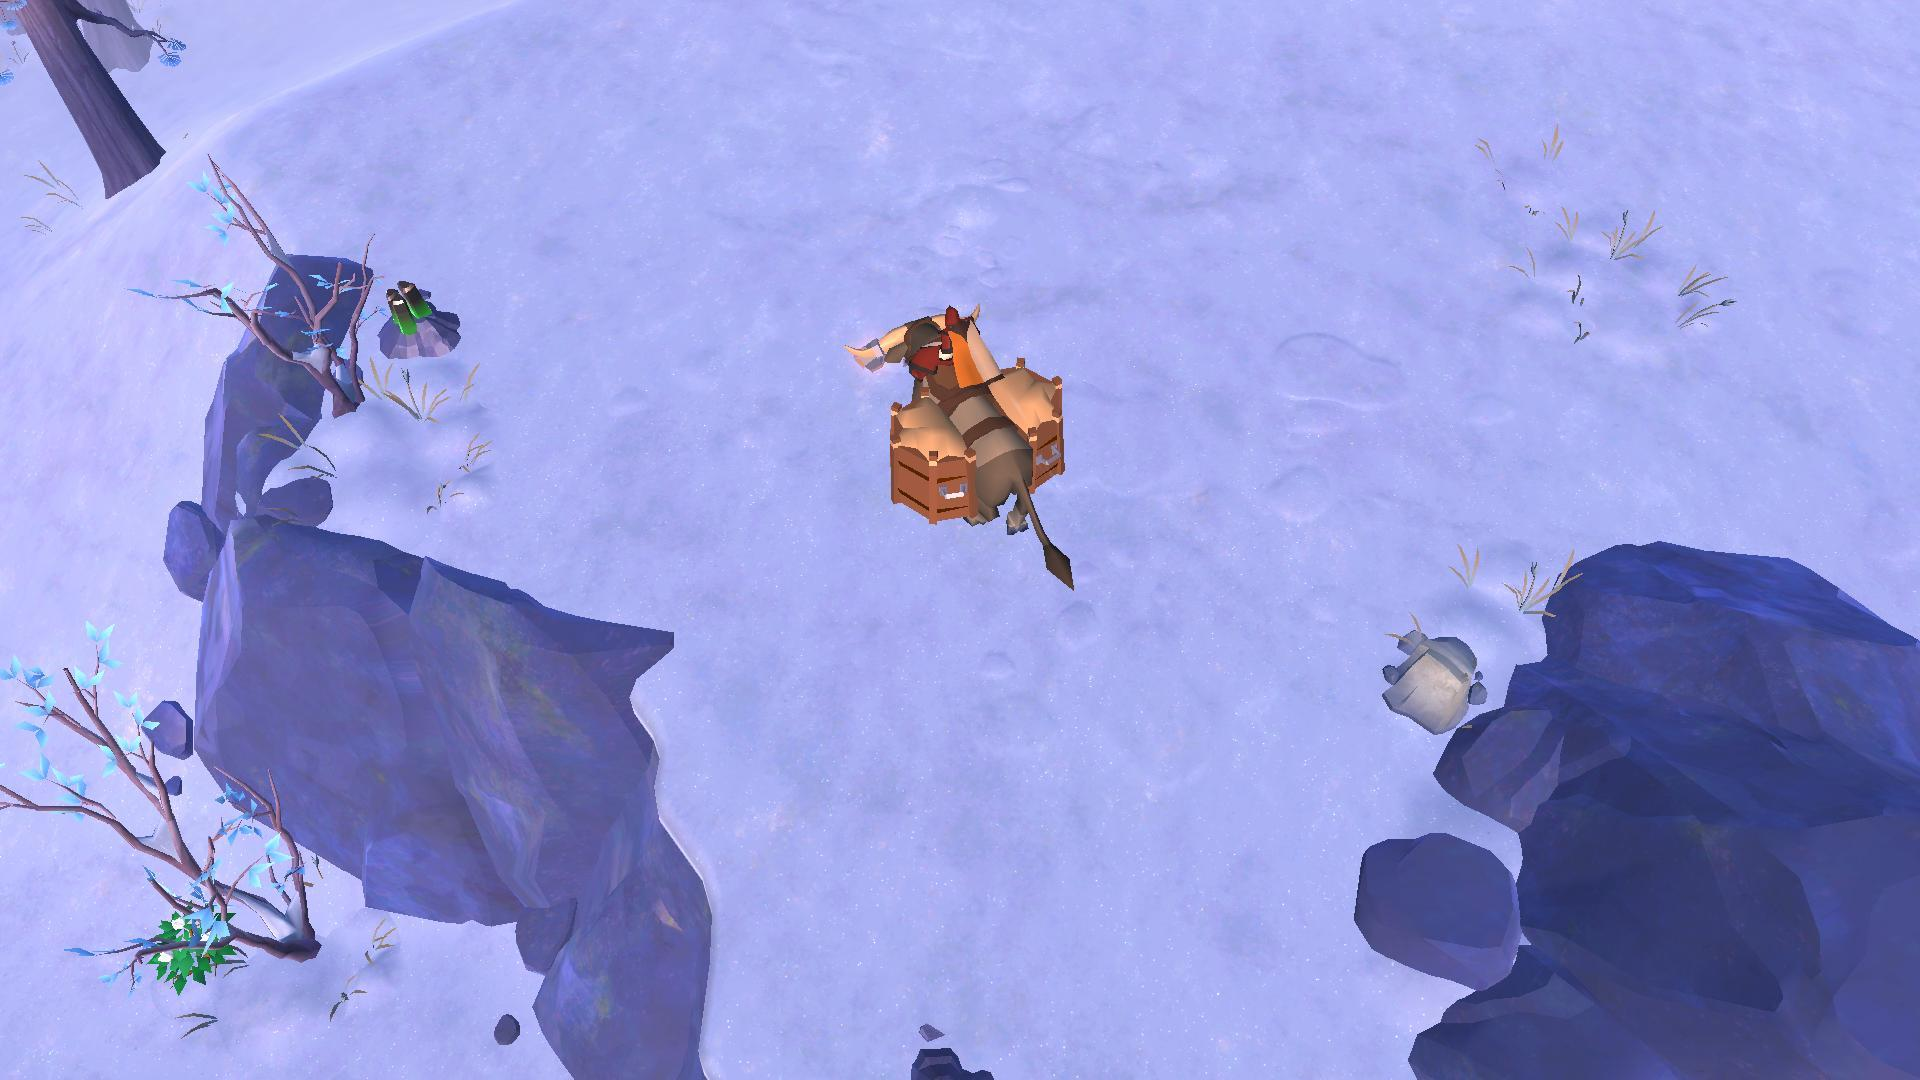fiber_t3: (137, 903, 237, 997)
ore_t3: (380, 272, 435, 332)
